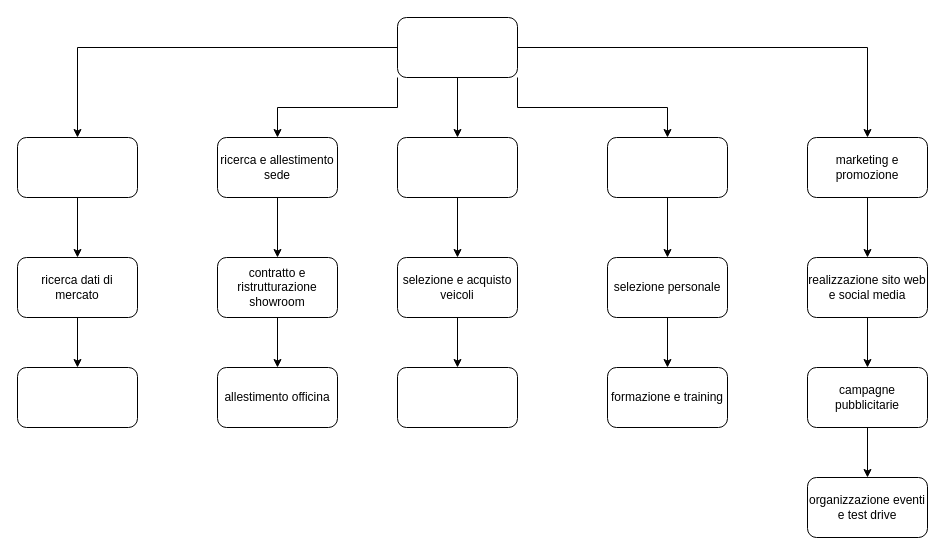
Some shapes in this 945 by 555 pixel diagram are drawn without their labels. The centre of each missing label's shape, as x and y in pixels:
acquisto attrezzature officina: point 457,397
acquisto veicoli e attrezzature: point 457,167
analisi di mercato e pianificazione: point 77,167
costruzione del team: point 667,167
definizione strategia commerciale: point 77,397
EasyCar: point 457,47
